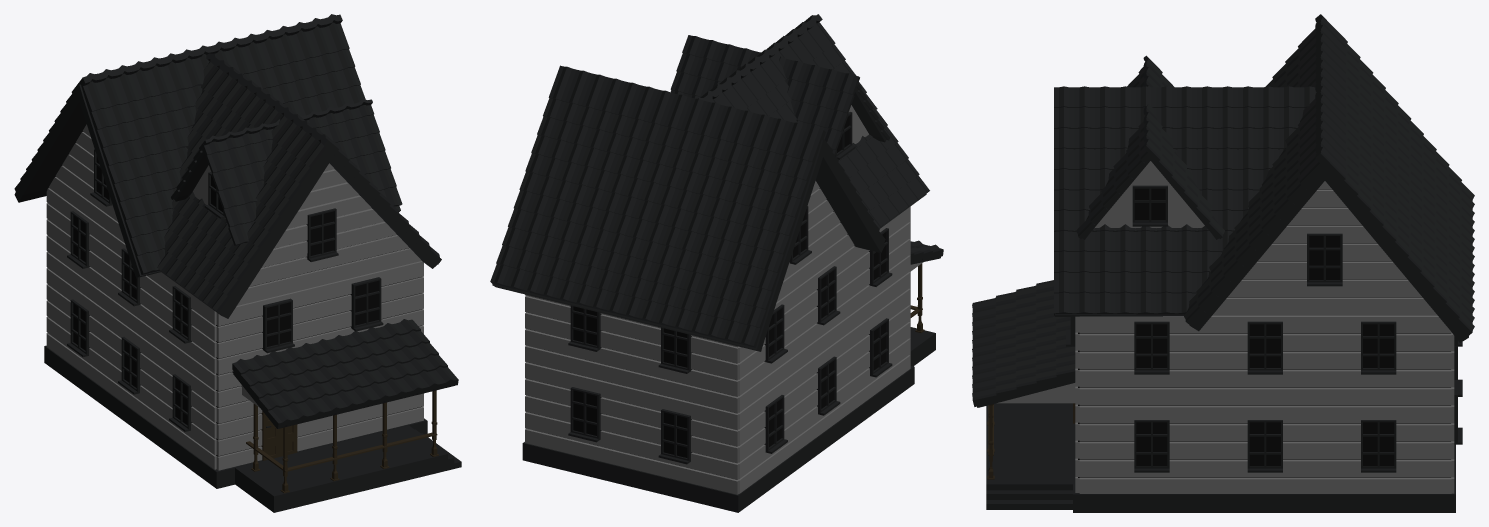
Rendered from House1.fbx.
The picture shows the model from 3 angles, left to right: view 1: azimuth 30°, elevation 25°; view 2: azimuth 150°, elevation 25°; view 3: azimuth 270°, elevation 25°; orthographic projection. The views are drawn at different scales.
Parts seen in each view (by area): view 1: House1; view 2: House1; view 3: House1.
Boxes of the visible parts, <box> form: House1: <box>14,14,461,512</box>; House1: <box>490,14,943,512</box>; House1: <box>972,14,1474,512</box>.
Size of the model in its own units: 2.56 by 3.18 by 3.87.
